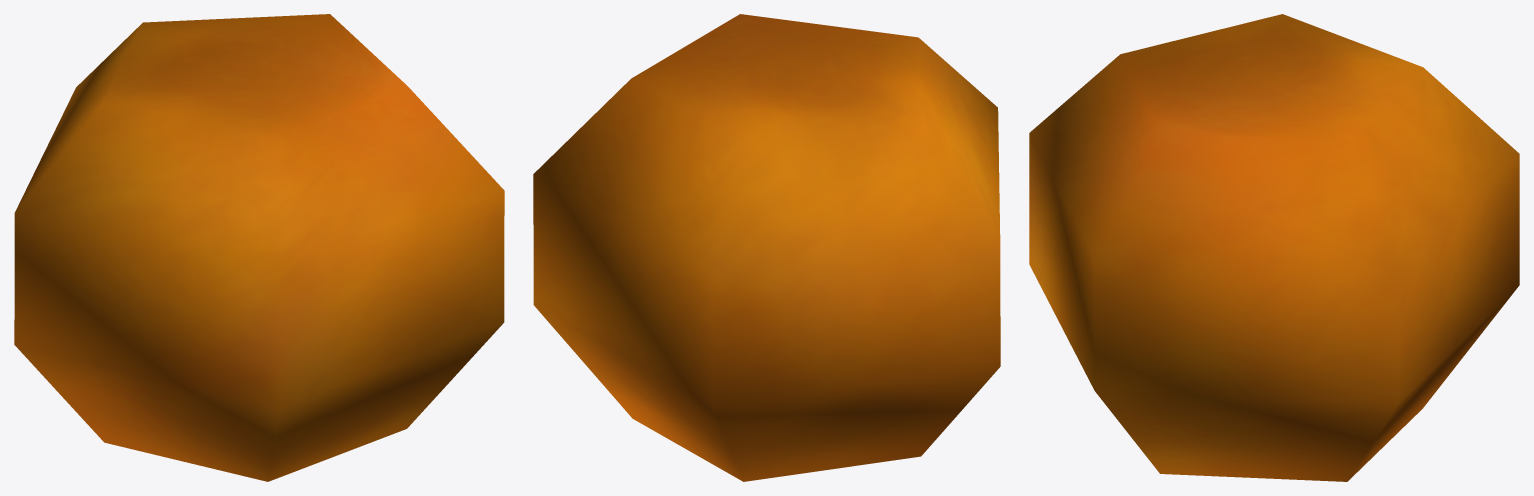
The model's file is Item_Tangerine.fbx.
3 views of the same model, side by side, from view 1: azimuth 30°, elevation 25°; view 2: azimuth 150°, elevation 25°; view 3: azimuth 270°, elevation 25° (orthographic).
Visible parts, largest first — view 1: Item_Tangerine; view 2: Item_Tangerine; view 3: Item_Tangerine.
Boxes of the visible parts, bbox=[...] form: Item_Tangerine: bbox=[14, 14, 504, 481]; Item_Tangerine: bbox=[533, 14, 1000, 481]; Item_Tangerine: bbox=[1029, 14, 1519, 481].
Bounding box in the file's own units: 13.82 × 12.16 × 14.07.
